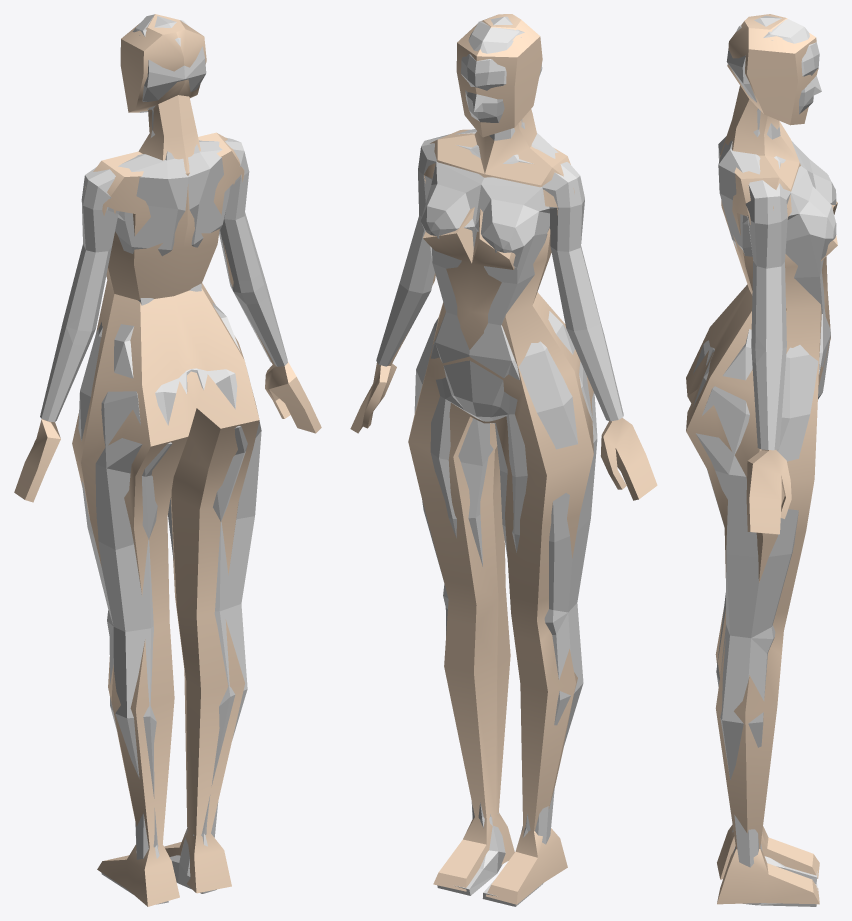
File: female LowpolyBasemesh.fbx
3 renders of one model, left to right at view 1: azimuth 30°, elevation 25°; view 2: azimuth 150°, elevation 25°; view 3: azimuth 270°, elevation 25°, orthographic.
Parts seen in each view (by area): view 1: char, Cube.001; view 2: char, Cube.001; view 3: char, Cube.001.
Part boxes in pixels (x1,y1,x2,y2): char: (14,14,321,906); Cube.001: (40,14,287,904); char: (350,14,657,904); Cube.001: (376,16,623,906); char: (686,14,837,904); Cube.001: (693,16,836,906).
Bounding box in the file's own units: 127 × 354 × 55.94.
